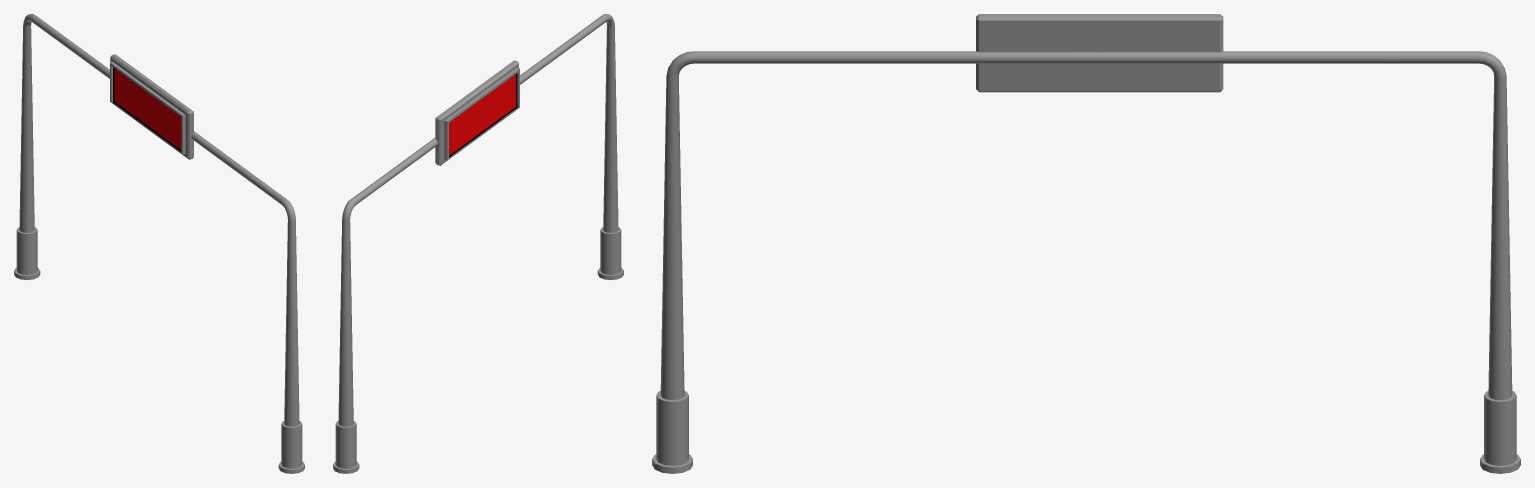
Rendered from kırmızı ışık 2.fbx.
3 views of the same model, side by side, from view 1: azimuth 30°, elevation 25°; view 2: azimuth 150°, elevation 25°; view 3: azimuth 270°, elevation 25° (orthographic). The views are drawn at different scales.
Visible parts, largest first — view 1: Cube.008; view 2: Cube.008; view 3: Cube.008.
Boxes of the visible parts, left/top/right/bottom form: Cube.008: left=14, top=14, right=304, bottom=473; Cube.008: left=333, top=14, right=623, bottom=473; Cube.008: left=652, top=14, right=1520, bottom=473.
Bounding box in the file's own units: 4.35 × 52.52 × 92.33.
